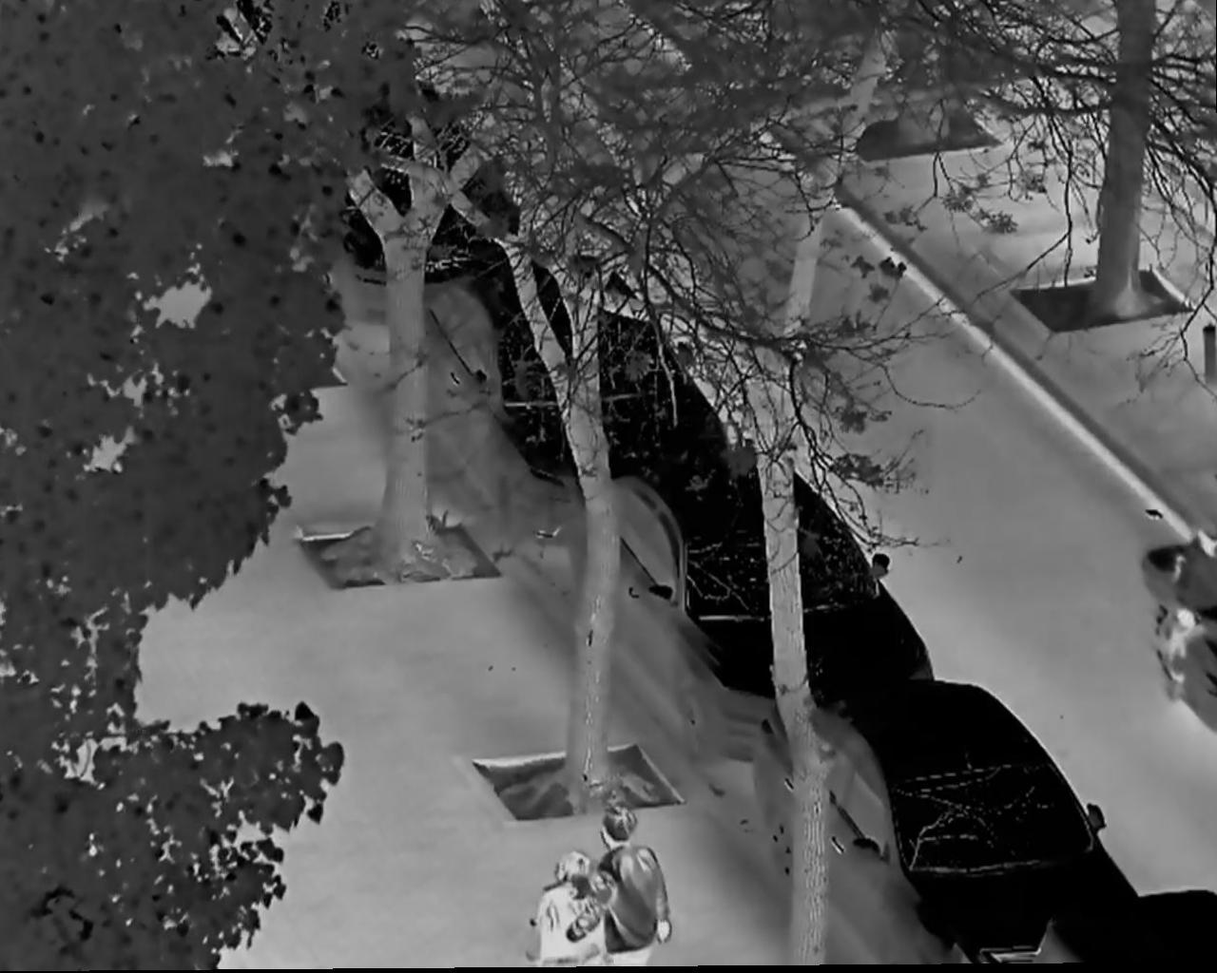person: (579, 805, 662, 973), (531, 854, 605, 969)
